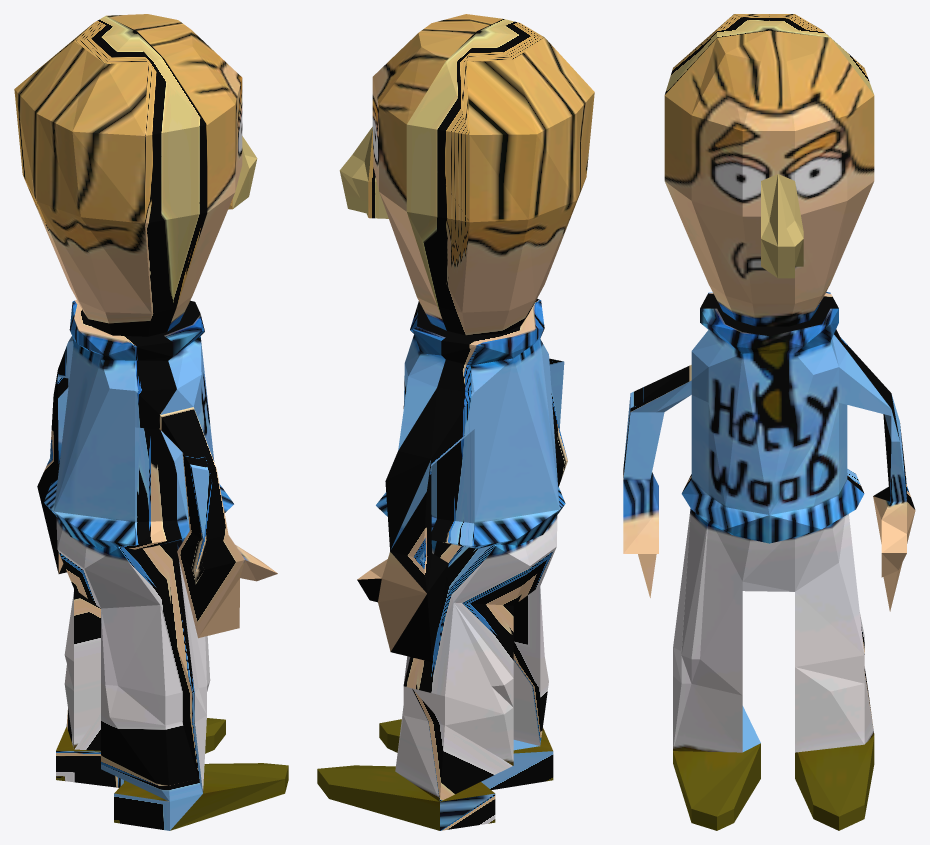
Rendered from PipWin.glb.
The picture shows the model from 3 angles, left to right: view 1: azimuth 30°, elevation 25°; view 2: azimuth 150°, elevation 25°; view 3: azimuth 270°, elevation 25°; orthographic projection. The views are drawn at different scales.
Parts seen in each view (by area): view 1: PipWin; view 2: PipWin; view 3: PipWin.
Boxes of the visible parts, left/top/right/bottom form: PipWin: left=14, top=14, right=288, bottom=830; PipWin: left=317, top=14, right=594, bottom=830; PipWin: left=623, top=14, right=915, bottom=830.
Bounding box in the file's own units: 35.4 × 116 × 40.9.
1 material, 1 textured.
